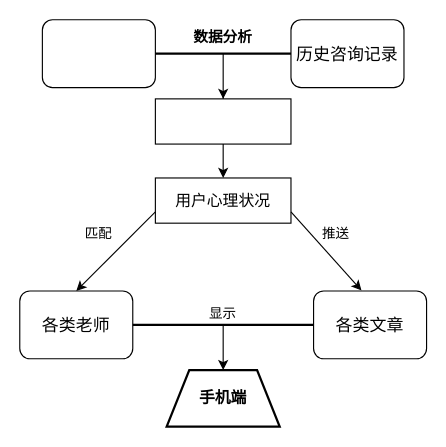
Some shapes in this 446 by 447 pixel diagram are drawn without their labels. Here are the shapes that lost their labels. From the top down, the centre of each, then its label:
(x=98, y=53): 调查问卷填写情况
(x=222, y=121): 微表情识别
